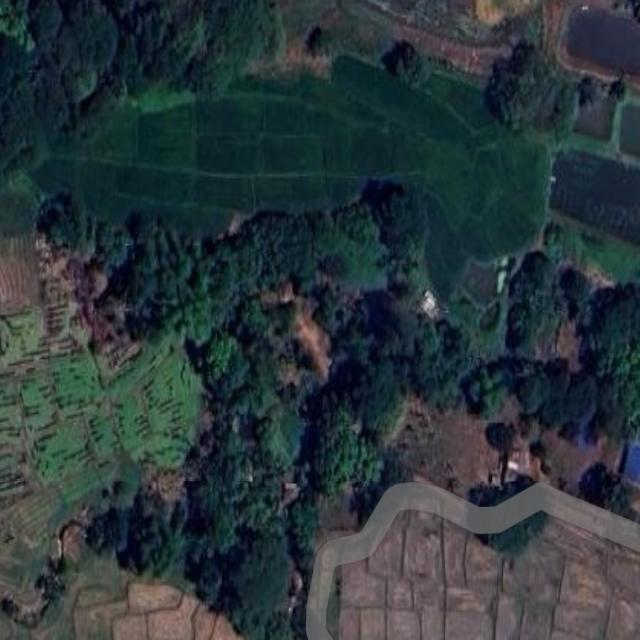Tree: (121, 209, 204, 319), (487, 40, 556, 133), (230, 527, 292, 624), (253, 212, 321, 296), (314, 422, 383, 501), (344, 355, 411, 436), (193, 215, 260, 292), (133, 289, 214, 352), (367, 286, 428, 368), (58, 1, 117, 78), (416, 327, 469, 405), (585, 283, 640, 355), (184, 481, 235, 558), (378, 174, 427, 253), (39, 190, 94, 256), (187, 43, 239, 106), (129, 512, 175, 579), (289, 487, 330, 551), (86, 503, 132, 558), (387, 40, 431, 94), (87, 222, 129, 273), (590, 379, 625, 437), (339, 198, 379, 247), (562, 372, 596, 429), (130, 5, 170, 53), (28, 0, 66, 47), (614, 359, 640, 426), (334, 319, 369, 366), (240, 288, 272, 338), (192, 560, 225, 608), (110, 29, 137, 85), (518, 367, 550, 412), (202, 330, 234, 374), (223, 344, 255, 388), (526, 248, 556, 294), (560, 264, 593, 304), (302, 213, 337, 244), (206, 374, 236, 409), (506, 306, 532, 346), (580, 69, 606, 109), (545, 358, 569, 398), (539, 396, 566, 428)
